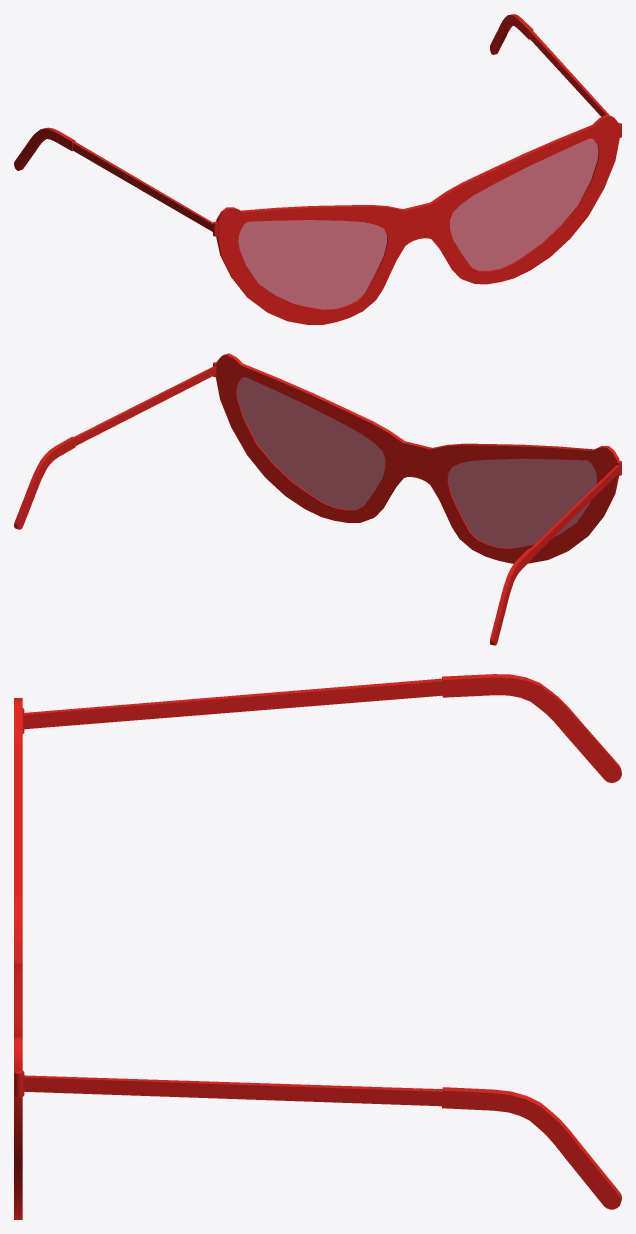
File: Glasses-WoYlUvyUAb.glb
The picture shows the model from 3 angles, top to bottom: view 1: azimuth 30°, elevation 25°; view 2: azimuth 150°, elevation 25°; view 3: azimuth 270°, elevation 25°; orthographic projection. The views are drawn at different scales.
Parts seen in each view (by area): view 1: Glasses-WoYlUvyUAb; view 2: Glasses-WoYlUvyUAb; view 3: Glasses-WoYlUvyUAb.
Boxes of the visible parts, x1,y1,x2,y2 form: Glasses-WoYlUvyUAb: [14, 14, 621, 324]; Glasses-WoYlUvyUAb: [14, 353, 621, 645]; Glasses-WoYlUvyUAb: [14, 674, 621, 1219].
Bounding box in the file's own units: 2.43 × 0.6746 × 1.45.
